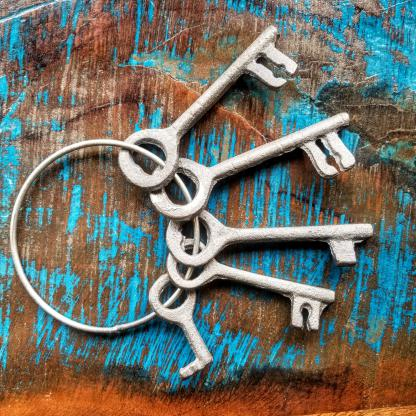key: (2, 21, 376, 374)
